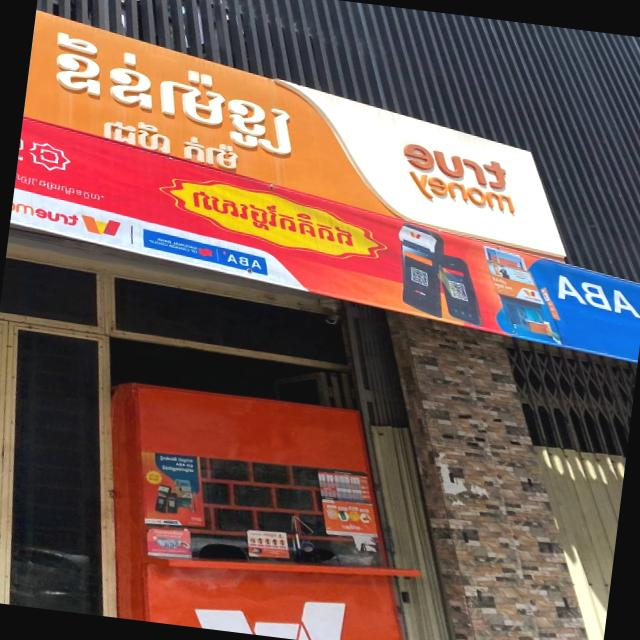1: (91, 108, 241, 172)
Yolov11_80vkh: (47, 27, 298, 168), (187, 182, 361, 254), (16, 172, 106, 206)
